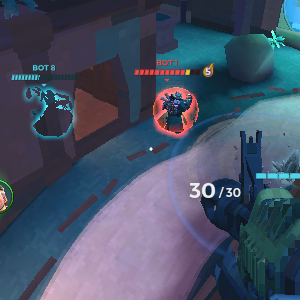model: (162, 87, 193, 141)
